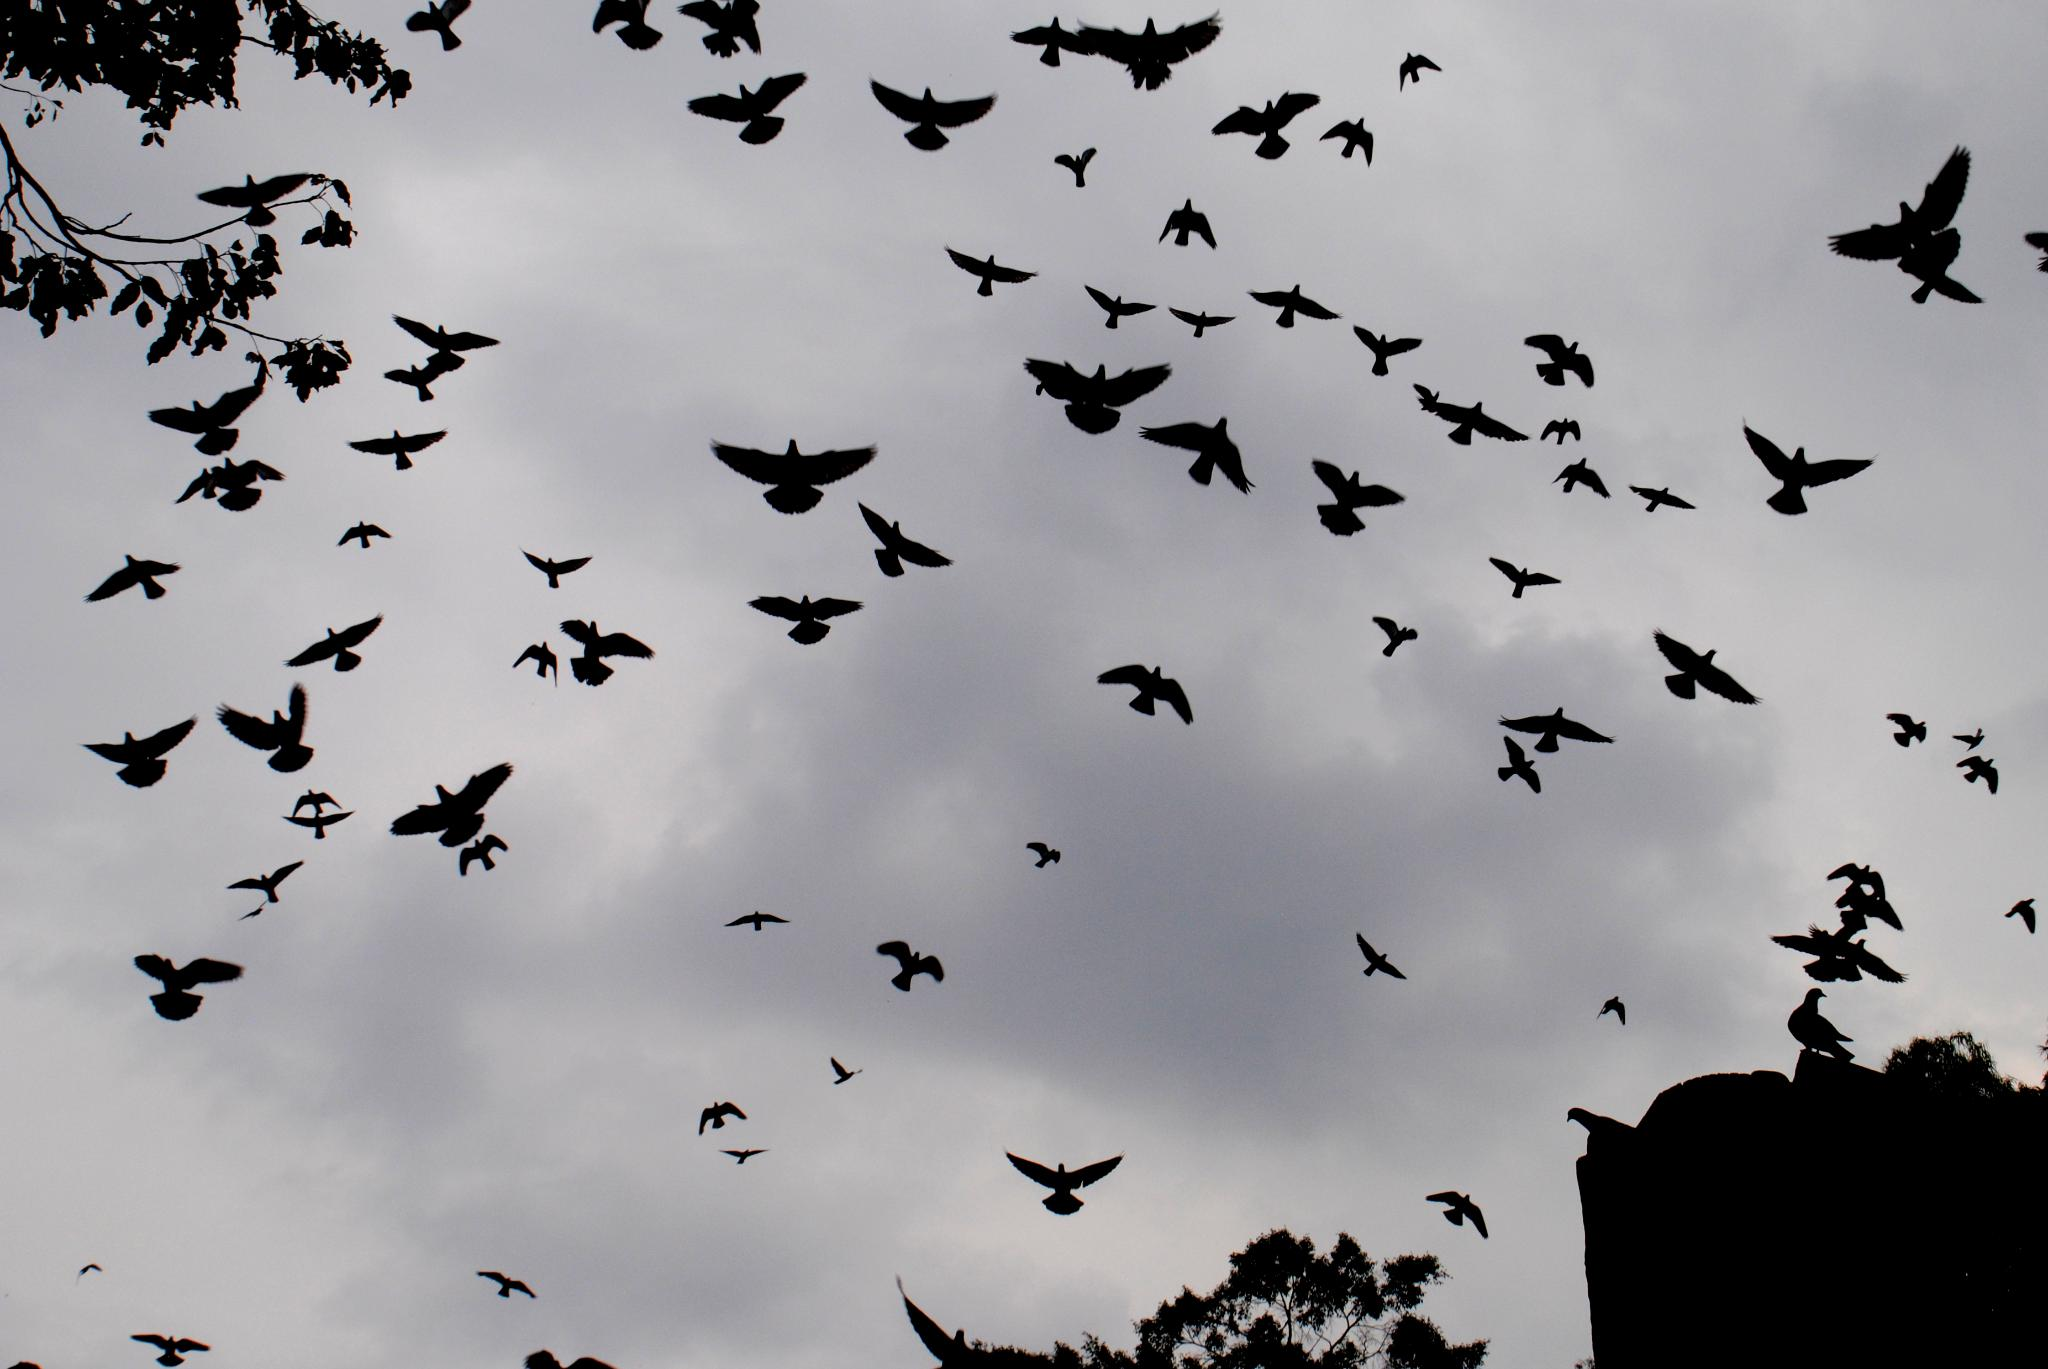bird: (1727, 402, 1897, 545), (108, 937, 266, 1033), (1078, 639, 1208, 755), (1006, 822, 1086, 891), (718, 885, 794, 952), (800, 1039, 884, 1097)
